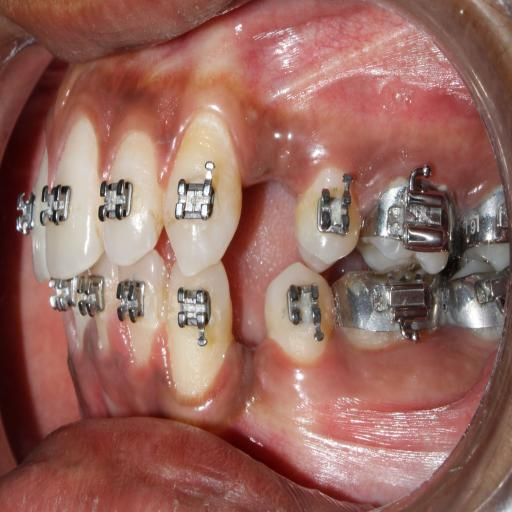correct_brace: (297, 168, 361, 268), (175, 170, 216, 226), (99, 170, 135, 226), (40, 178, 73, 234)
incorrect_brace: (99, 132, 163, 266), (315, 184, 352, 242)
